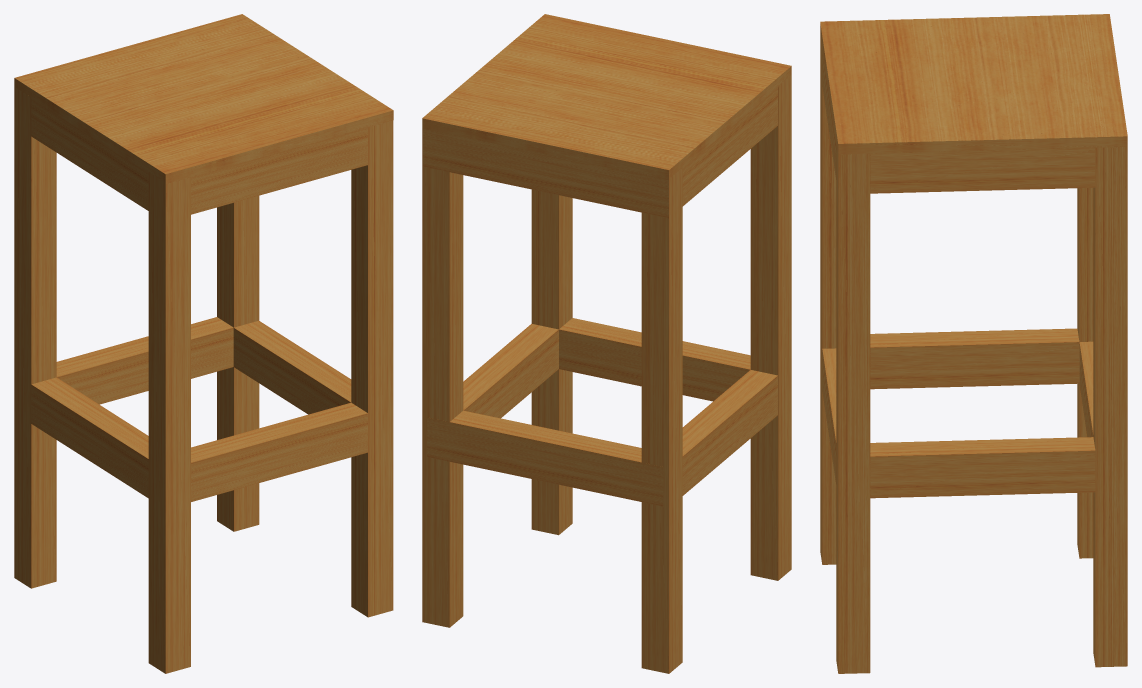
Rendered from Sgabello2.dae.
The picture shows the model from 3 angles, left to right: view 1: azimuth 30°, elevation 25°; view 2: azimuth 150°, elevation 25°; view 3: azimuth 270°, elevation 25°; orthographic projection. The views are drawn at different scales.
Visible parts, largest first — view 1: Cube_012_005; view 2: Cube_012_005; view 3: Cube_012_005.
Boxes of the visible parts, x1,y1,x2,y2 form: Cube_012_005: [14, 14, 393, 673]; Cube_012_005: [422, 14, 791, 673]; Cube_012_005: [820, 14, 1127, 673].
Bounding box in the file's own units: 0.3711 × 0.3711 × 0.7057.
Materials: 1 (1 with a texture image).
